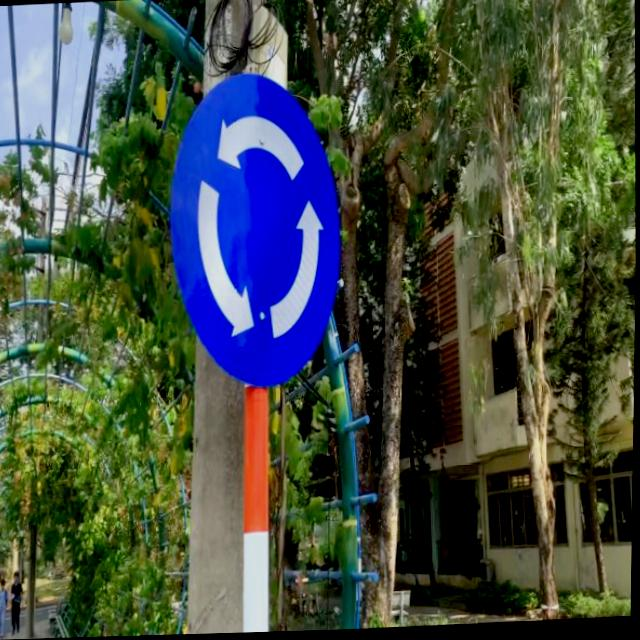Noi giao nhau chay theo vong xuyen: (165, 69, 347, 395)
